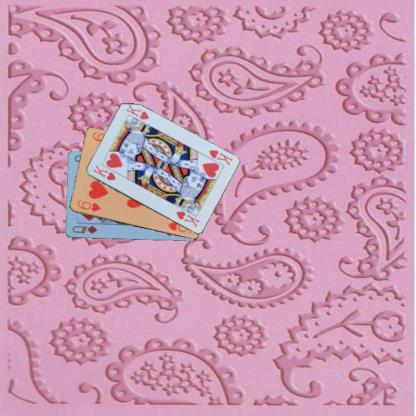6h: (74, 198, 102, 212)
Kh: (206, 147, 233, 167), (90, 163, 117, 182)
Qd: (70, 223, 98, 235)
